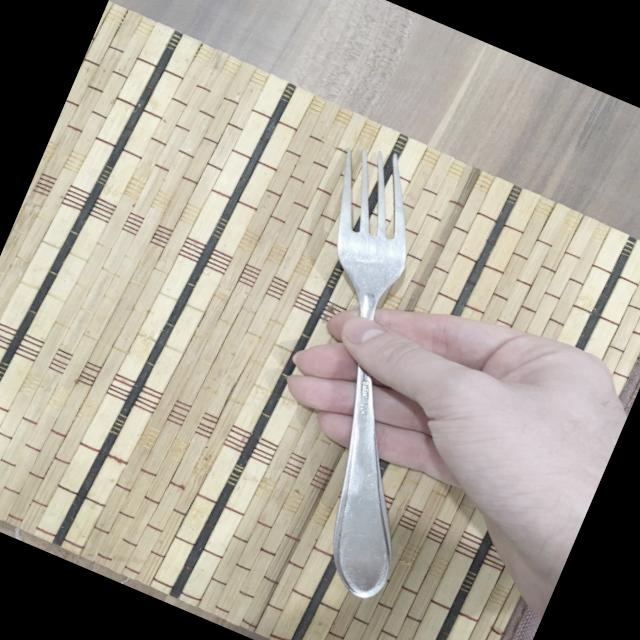fork: (188, 135, 542, 606)
